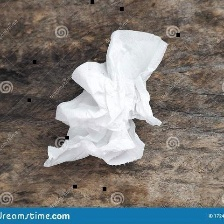tissue: (39, 25, 172, 170)
